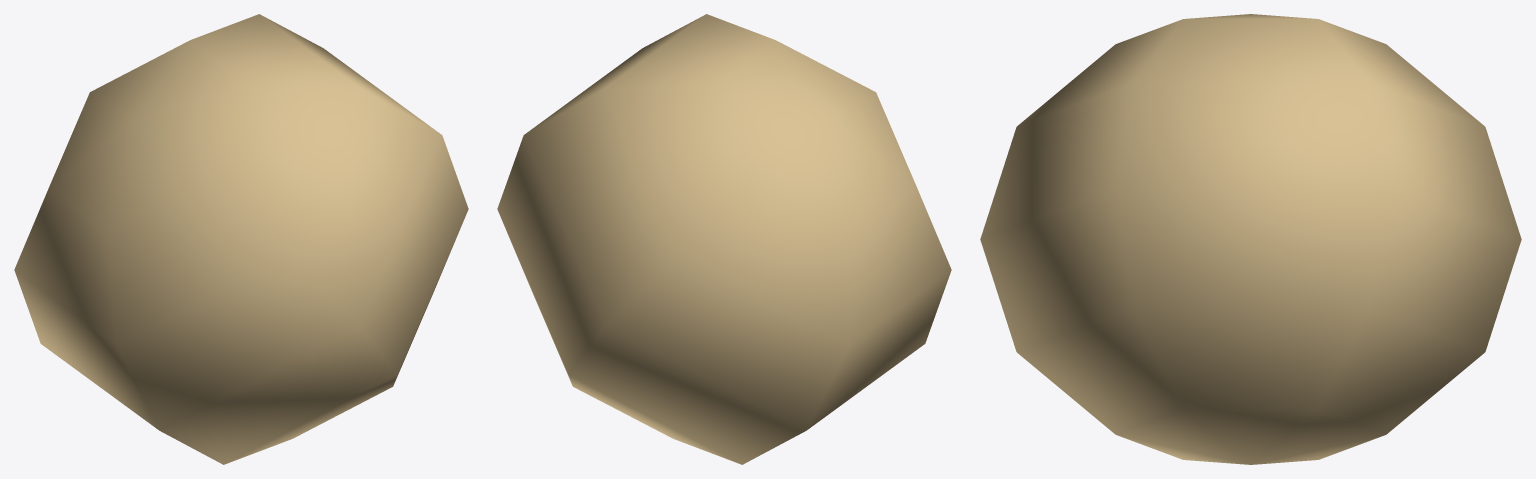
Rendered from L_hand.glb.
The picture shows the model from 3 angles, left to right: view 1: azimuth 30°, elevation 25°; view 2: azimuth 150°, elevation 25°; view 3: azimuth 270°, elevation 25°; orthographic projection. The views are drawn at different scales.
Visible parts, largest first — view 1: L_hand; view 2: L_hand; view 3: L_hand.
Boxes of the visible parts, x1,y1,x2,y2 form: L_hand: [14, 14, 468, 464]; L_hand: [497, 14, 951, 464]; L_hand: [980, 14, 1521, 464].
Size of the model in its own units: 0.1039 by 0.1033 by 0.1216.
